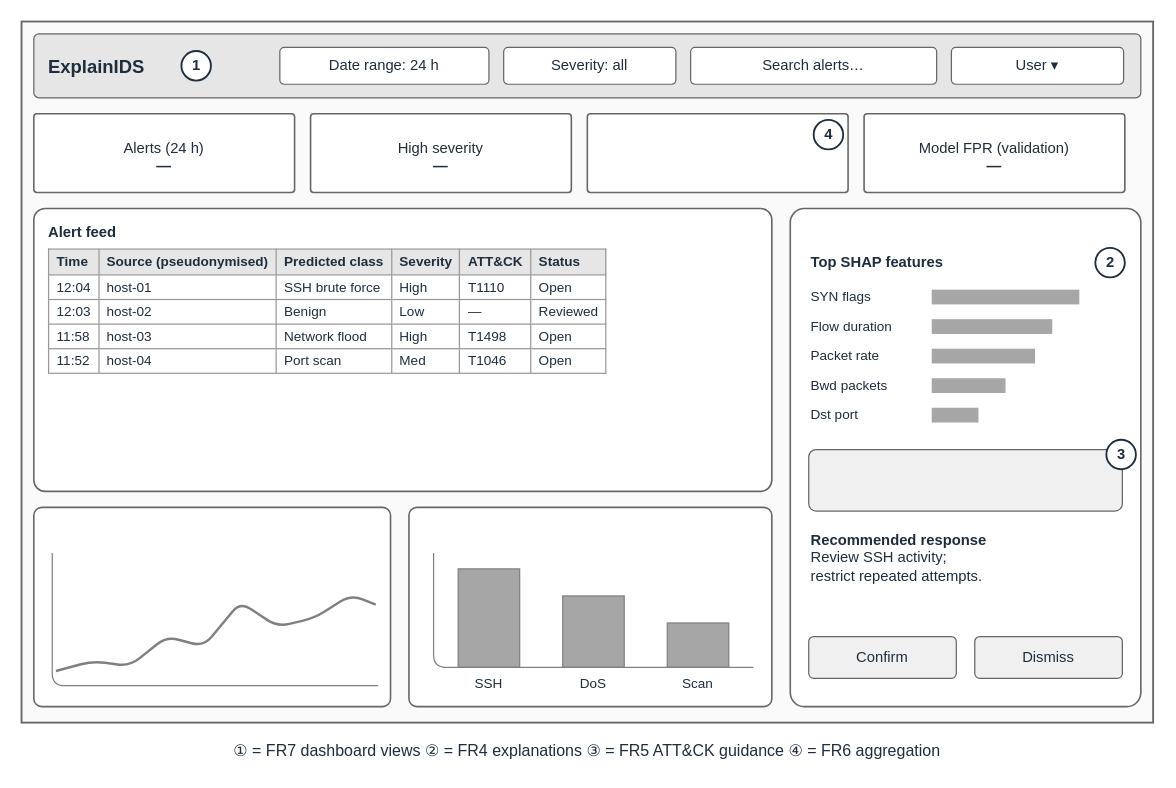
This 1176x788 diagram has some shape labels left out. Here are the shapes that lost their labels. From the top down, the box of each, then its label:
(586, 112, 848, 193): Aggregated incidents —
(789, 207, 1141, 707): Alert detail
(807, 448, 1122, 511): ATT&CK: T1110 Brute Force (candidate)
(32, 506, 391, 707): Alerts over time
(408, 506, 772, 707): Attack distribution
